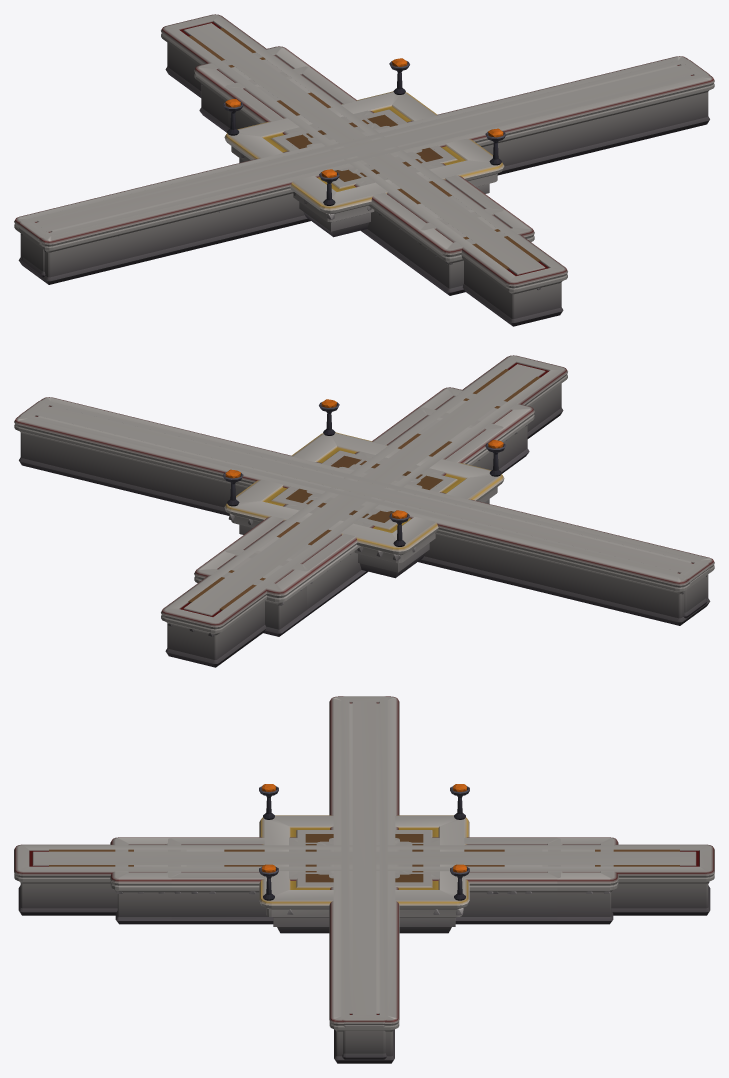
File: fortress-1-CD0tMsOl.glb
3 views of the same model, one above another, from view 1: azimuth 30°, elevation 25°; view 2: azimuth 150°, elevation 25°; view 3: azimuth 270°, elevation 25° (orthographic).
Parts seen in each view (by area): view 1: block_44x2x4_grate#0, block_4x2x40_grate#0, block_44x2x3#0, pad_12x2x12#0, block_6x2x23#0, block_6x2x29#0, hover_7x1.5x7#0, beam_2.5x1.5x36#0; view 2: block_44x2x4_grate#0, block_4x2x40_grate#0, block_44x2x3#0, pad_12x2x12#0, block_6x2x23#0, block_6x2x29#0, hover_7x1.5x7#0, beam_2.5x1.5x36#0; view 3: block_4x2x40_grate#0, block_44x2x3#0, pad_12x2x12#0, block_6x2x23#0, block_44x2x4_grate#0, block_6x2x29#0, hover_7x1.5x7#0, beam_2.5x1.5x36#0.
Part boxes in pixels (bbox=[...]): block_44x2x4_grate#0: bbox=[14, 56, 714, 284]; block_4x2x40_grate#0: bbox=[161, 14, 567, 326]; block_44x2x3#0: bbox=[18, 59, 709, 277]; pad_12x2x12#0: bbox=[222, 58, 505, 237]; block_6x2x23#0: bbox=[221, 66, 505, 275]; block_6x2x29#0: bbox=[194, 46, 534, 295]; hover_7x1.5x7#0: bbox=[286, 114, 442, 181]; beam_2.5x1.5x36#0: bbox=[188, 28, 540, 269]; block_44x2x4_grate#0: bbox=[14, 397, 714, 625]; block_4x2x40_grate#0: bbox=[161, 355, 567, 667]; block_44x2x3#0: bbox=[19, 400, 710, 618]; pad_12x2x12#0: bbox=[223, 399, 506, 578]; block_6x2x23#0: bbox=[223, 407, 507, 616]; block_6x2x29#0: bbox=[194, 387, 534, 636]; hover_7x1.5x7#0: bbox=[286, 455, 442, 522]; beam_2.5x1.5x36#0: bbox=[188, 369, 540, 610]; block_4x2x40_grate#0: bbox=[14, 844, 714, 915]; block_44x2x3#0: bbox=[341, 696, 387, 1059]; pad_12x2x12#0: bbox=[259, 784, 469, 933]; block_6x2x23#0: bbox=[165, 837, 563, 924]; block_44x2x4_grate#0: bbox=[329, 696, 399, 1063]; block_6x2x29#0: bbox=[110, 837, 618, 924]; hover_7x1.5x7#0: bbox=[305, 834, 423, 882]; beam_2.5x1.5x36#0: bbox=[49, 849, 679, 866].
Bounding box in the file's own units: 44 × 6.35 × 40.
